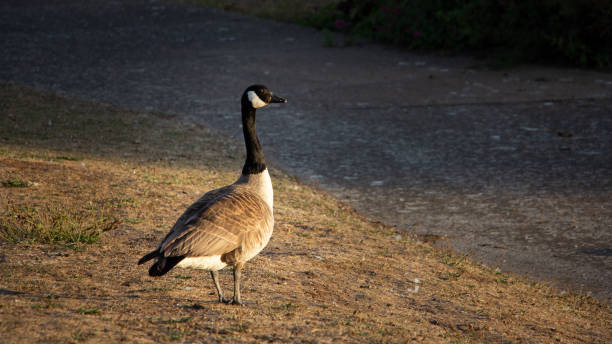goose: (135, 82, 289, 307)
